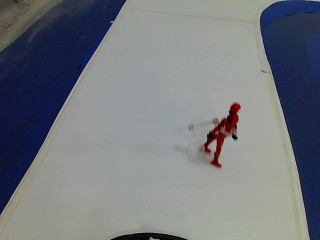pedestrian: (199, 97, 245, 170)
